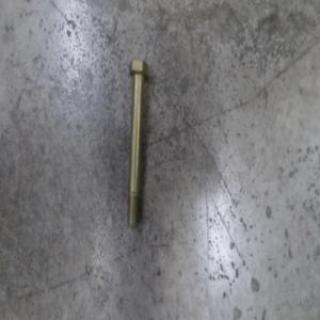Bolttrack_idkeyframe: (125, 55, 149, 232)
